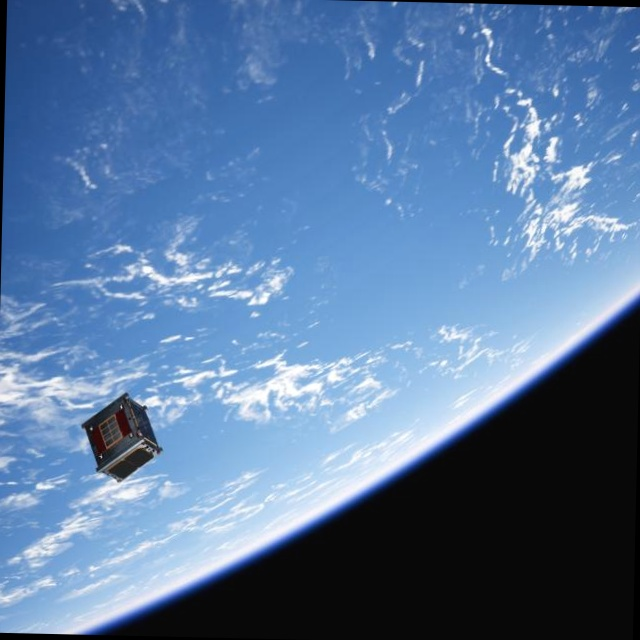medium_debris: (82, 390, 167, 484)
